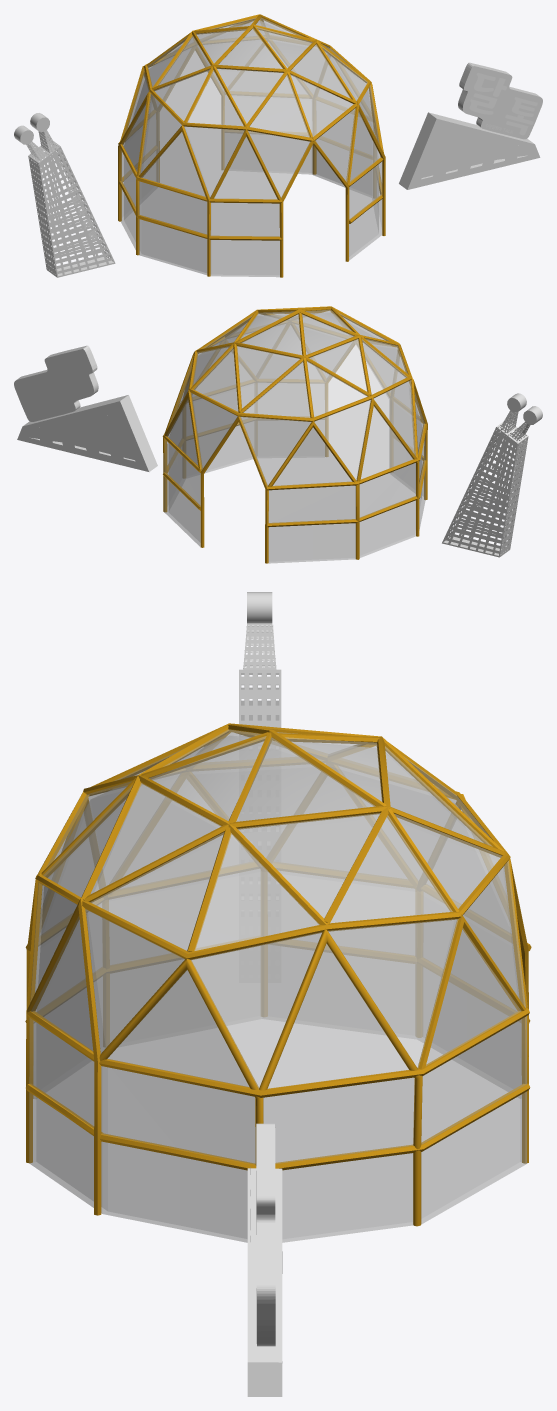
File: 달팽이건물.fbx
The picture shows the model from 3 angles, top to bottom: view 1: azimuth 30°, elevation 25°; view 2: azimuth 150°, elevation 25°; view 3: azimuth 270°, elevation 25°; orthographic projection. The views are drawn at different scales.
Visible parts, largest first — view 1: Plane002, Shape009, Box003, Box001, Line001, Shape004, TextPlus001, TextPlus002; view 2: Plane002, Shape009, Box003, Box001, Line001, Shape004; view 3: Plane002, Shape009, Box001, Line001, Shape004, Box003, Object003.
Boxes of the visible parts, left/top/right/bottom form: Plane002: left=120, top=18, right=382, bottom=277; Shape009: left=118, top=14, right=385, bottom=277; Box003: left=28, top=141, right=115, bottom=277; Box001: left=399, top=112, right=540, bottom=189; Line001: left=458, top=62, right=542, bottom=139; Shape004: left=118, top=90, right=151, bottom=255; TextPlus001: left=469, top=73, right=506, bottom=114; TextPlus002: left=505, top=97, right=537, bottom=135; Plane002: left=164, top=310, right=425, bottom=563; Shape009: left=162, top=306, right=427, bottom=563; Box003: left=442, top=421, right=528, bottom=557; Box001: left=17, top=395, right=157, bottom=471; Line001: left=14, top=345, right=98, bottom=421; Shape004: left=355, top=398, right=419, bottom=559; Plane002: left=29, top=729, right=526, bottom=1242; Shape009: left=25, top=723, right=531, bottom=1226; Box001: left=247, top=1168, right=282, bottom=1396; Line001: left=256, top=1123, right=275, bottom=1346; Shape004: left=261, top=763, right=422, bottom=1037; Box003: left=239, top=669, right=281, bottom=736; Object003: left=243, top=623, right=276, bottom=669.
Size of the model in its own units: 590 by 215 by 248.
